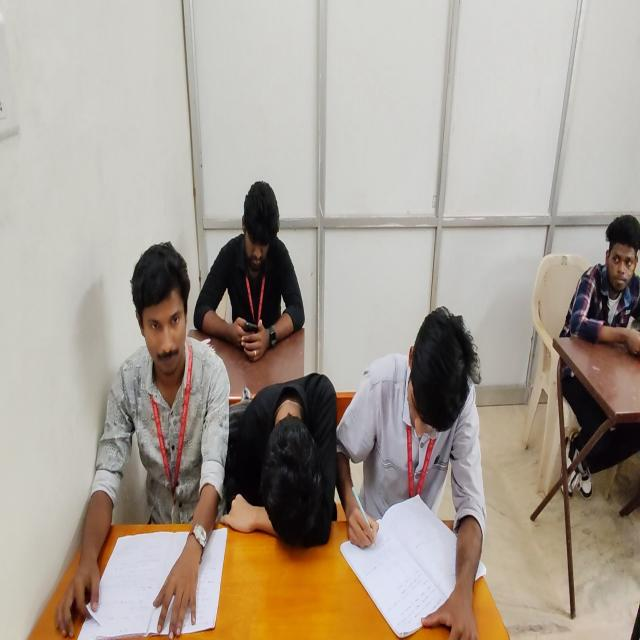listening: (56, 242, 232, 640)
sleeping: (223, 371, 334, 549)
using_mobile: (556, 209, 640, 502), (193, 180, 305, 359)
writing: (342, 310, 482, 640)
